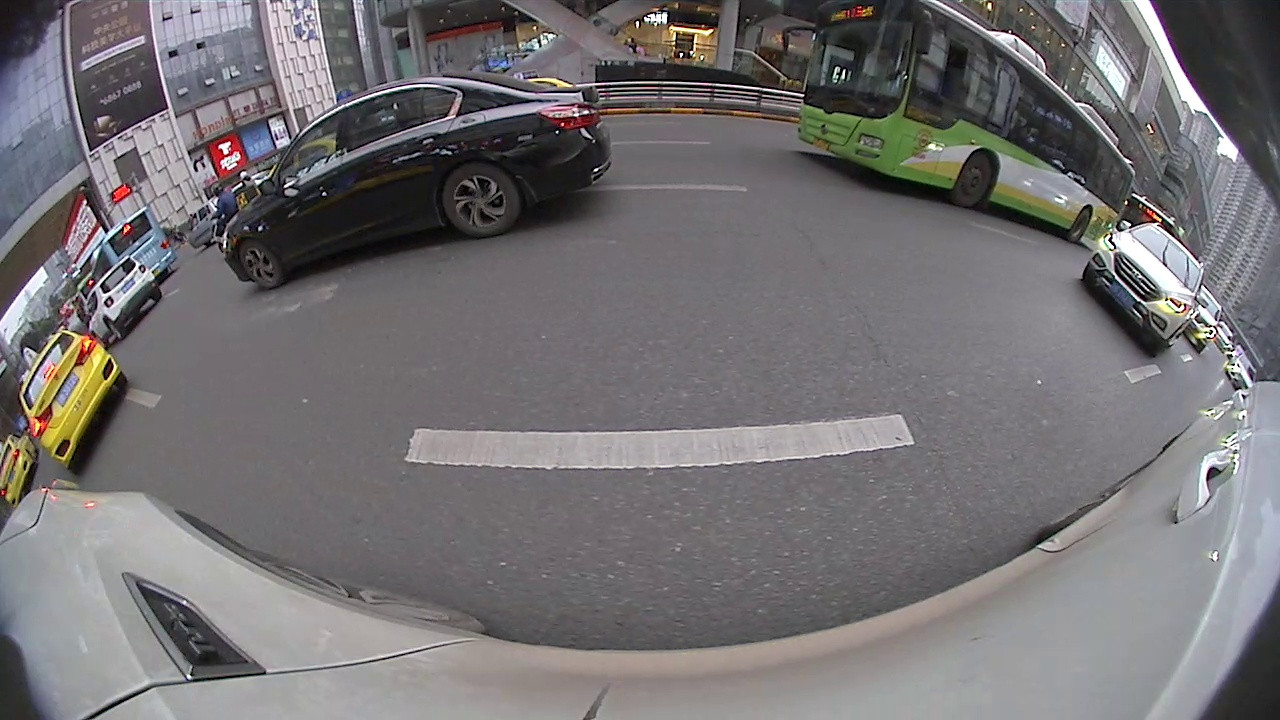bus: (788, 4, 1138, 252), (79, 204, 184, 304)
car: (219, 80, 606, 300), (1081, 218, 1212, 352), (21, 329, 123, 483), (87, 253, 163, 337)
front: (236, 238, 283, 292), (952, 148, 993, 208)
rear: (444, 162, 521, 241), (1065, 207, 1091, 243)
